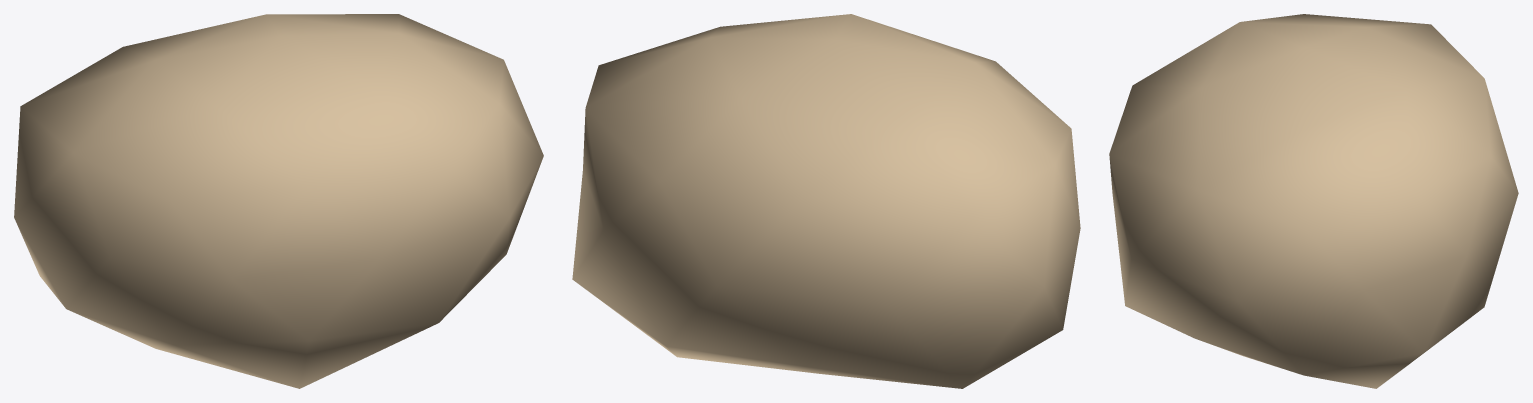
Rendered from RUBBEL_KIESEL_7.glb.
3 renders of one model, left to right at view 1: azimuth 30°, elevation 25°; view 2: azimuth 150°, elevation 25°; view 3: azimuth 270°, elevation 25°, orthographic. The views are drawn at different scales.
Parts seen in each view (by area): view 1: RUBBEL_KIESEL_7; view 2: RUBBEL_KIESEL_7; view 3: RUBBEL_KIESEL_7.
Boxes of the visible parts, x1,y1,x2,y2 form: RUBBEL_KIESEL_7: [14, 14, 543, 388]; RUBBEL_KIESEL_7: [572, 14, 1080, 388]; RUBBEL_KIESEL_7: [1109, 14, 1518, 388].
Bounding box in the file's own units: 0.7976 × 0.4989 × 0.6348.
